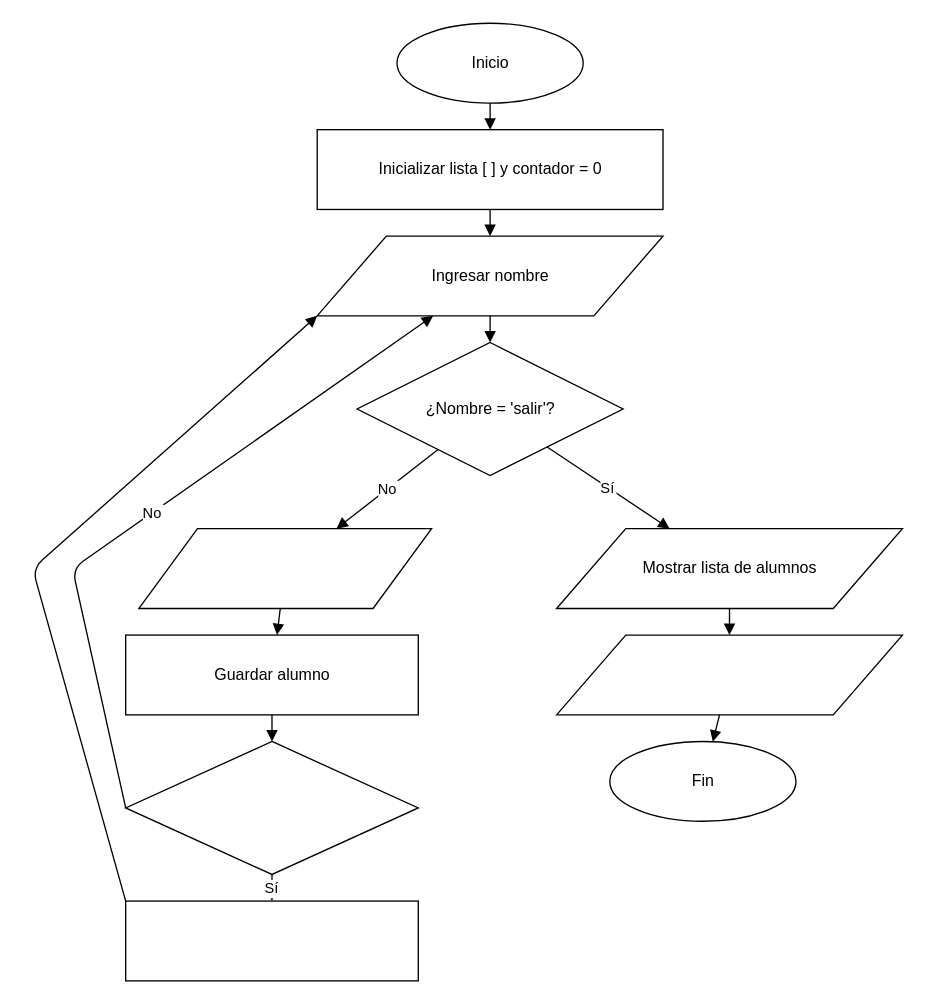
Image size: 926x1004. Some labels were removed from this diagram. Here are the shapes that lost their labels. From the top down, the centre of each, then its label:
(x=285, y=567): Ingresar edad
(x=728, y=674): Mostrar total ≥ 18
(x=271, y=807): ¿Edad ≥ 18?
(x=271, y=940): contador++
